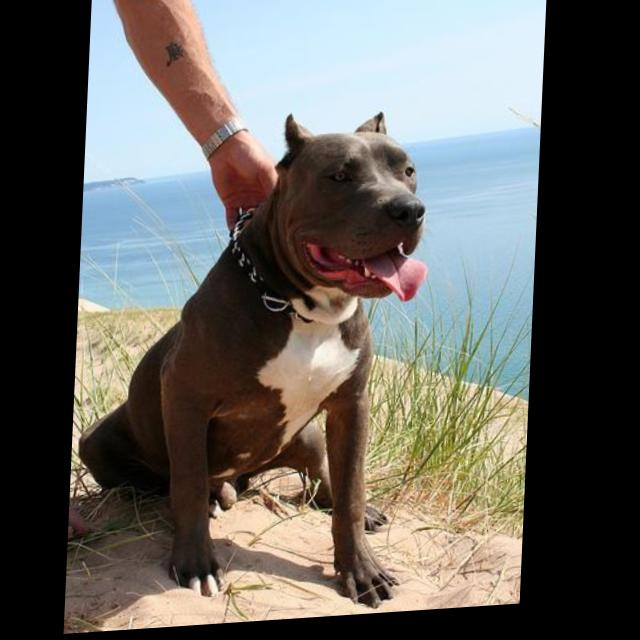amstaff: (77, 109, 436, 630)
